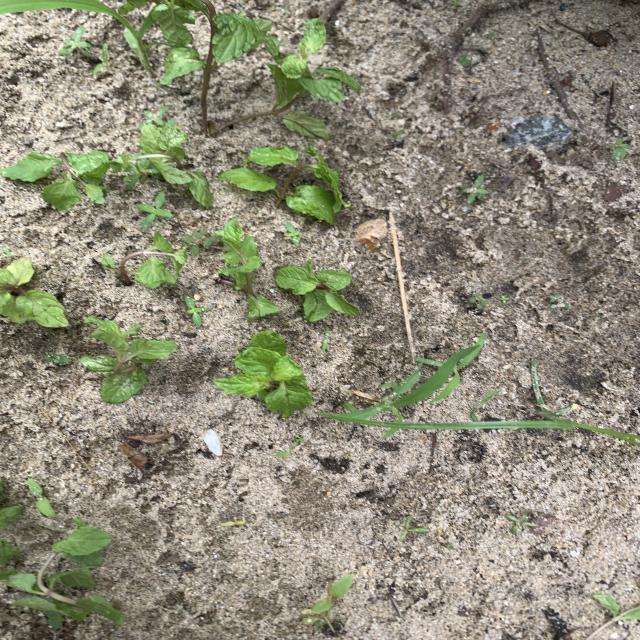crop: (221, 19, 359, 138), (2, 517, 123, 623), (219, 147, 350, 223), (215, 330, 313, 416), (114, 120, 211, 206), (81, 318, 178, 402), (1, 152, 109, 209), (219, 217, 279, 319), (275, 260, 359, 321), (101, 231, 187, 287), (1, 258, 67, 327), (140, 1, 207, 46), (587, 592, 639, 639), (1, 479, 22, 529)
weed: (319, 334, 638, 440), (302, 574, 352, 632), (138, 192, 171, 227), (506, 511, 554, 534), (28, 479, 55, 516), (60, 26, 91, 55), (185, 296, 210, 326), (396, 516, 427, 539), (463, 174, 487, 203), (182, 231, 215, 252), (607, 136, 631, 160), (142, 107, 168, 126), (93, 44, 107, 74), (285, 223, 301, 245), (468, 294, 487, 310), (45, 354, 69, 365), (322, 328, 330, 351), (291, 434, 303, 447), (388, 130, 403, 140), (222, 521, 243, 526), (1, 248, 11, 257), (274, 451, 289, 457)
